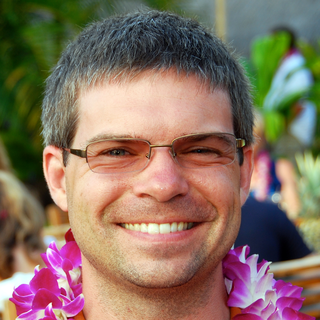eye: (94, 142, 142, 164), (178, 142, 227, 163)
